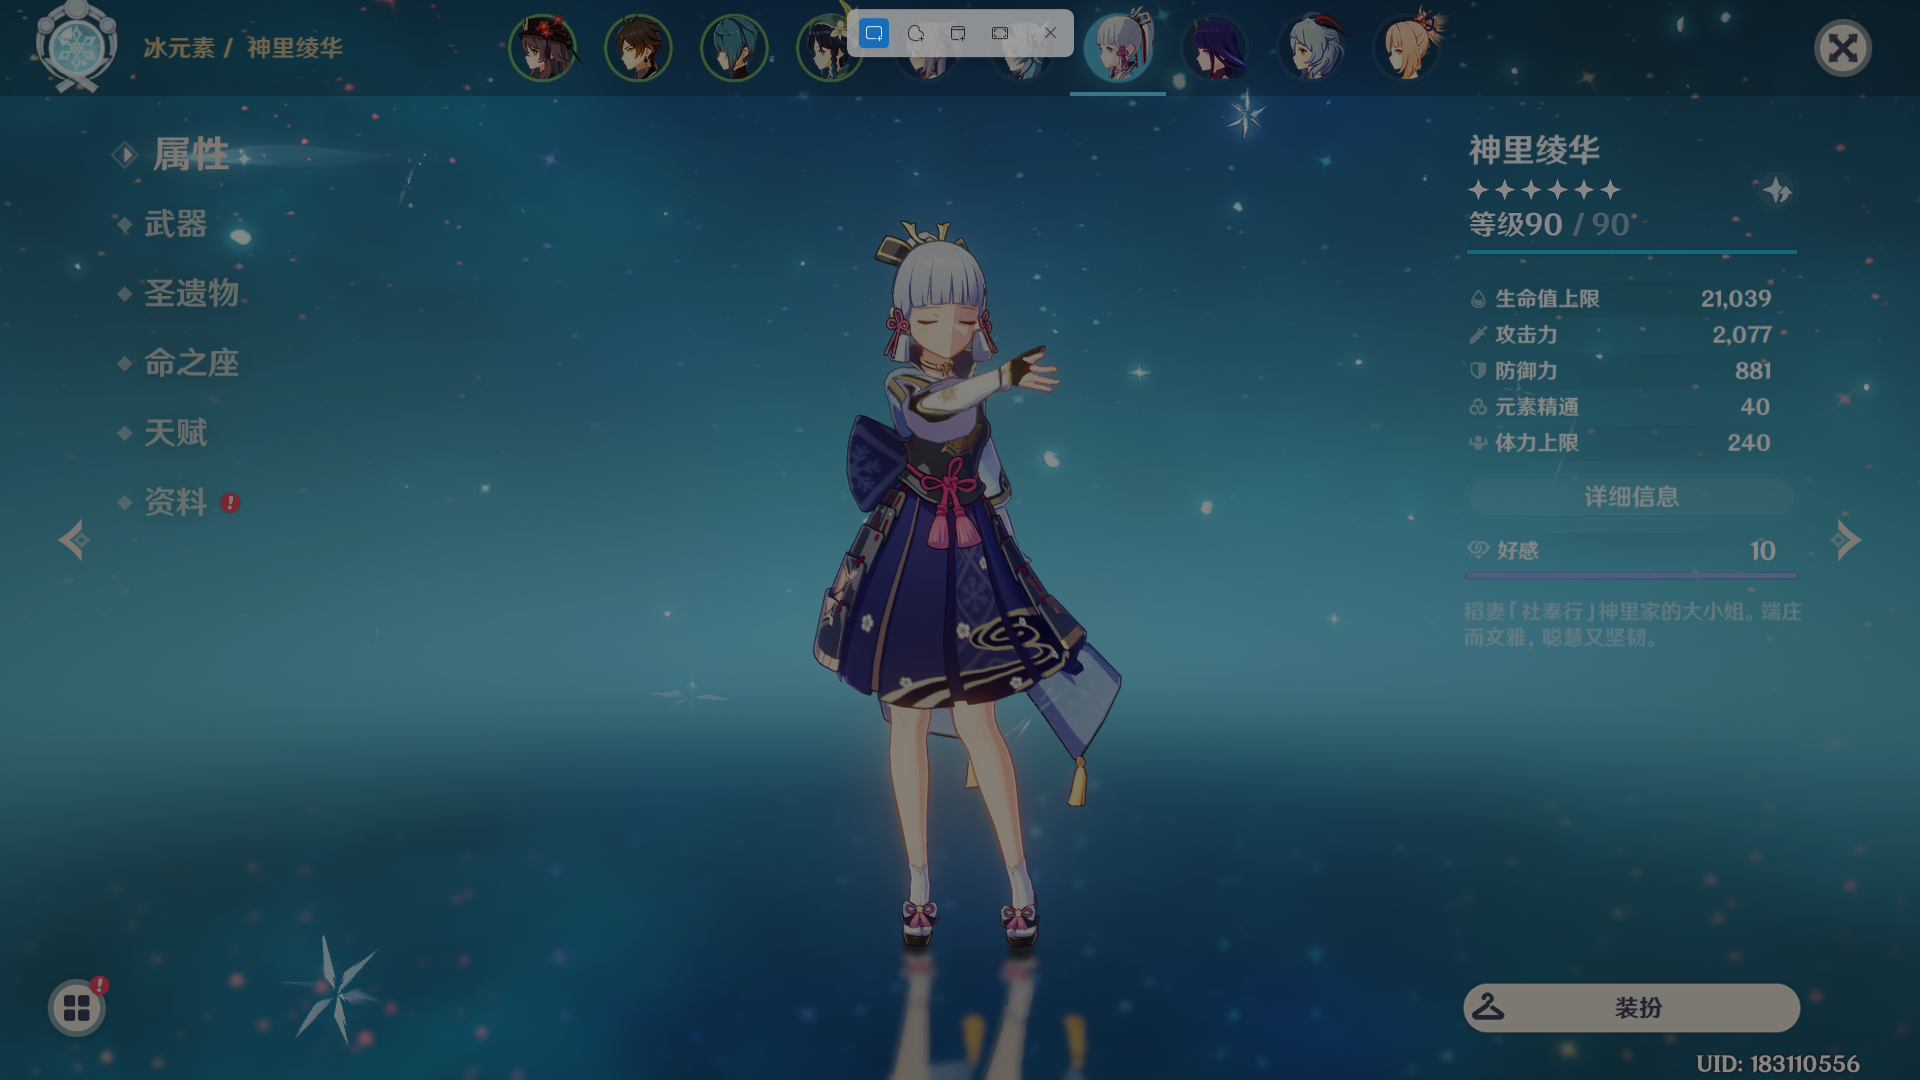character: (775, 191, 1158, 985)
